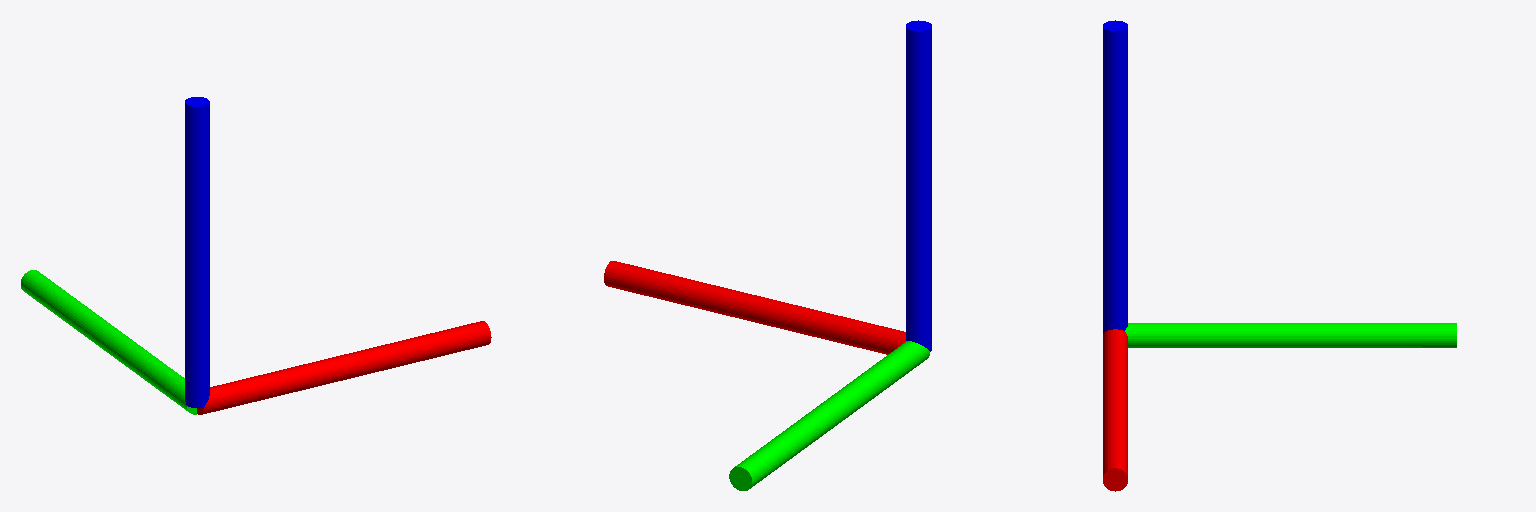
robot.urdf — object:
<?xml version="1.0"?>
<robot name="object">
  <link name="object">
    <visual>
      <origin xyz="0 0 0"/>
      <geometry>
        <mesh filename="meshes/cube_multicolor.obj" scale=".1 .1 .1"/>
      </geometry>
      <material name="multicolor">
        <color rgba="0.7 0.7 1.0 0.3"/>
      </material>
    </visual>
    <collision>
      <origin xyz="0 0 0"/>
      <geometry>
        <box size="0.065 0.065 0.065"/>
      </geometry>
    </collision>
    <inertial>
      <!-- <density value="400.0"/> -->
      <mass value="0.5"/>
      <inertia ixx="1e-4" ixy="0" ixz="0" iyy="1e-4" iyz="0" izz="1e-4"/>
    </inertial>
  </link>
  <link name="x">
    <visual>
      <origin xyz="0.04 0 0" rpy="0 1.5707 0"/>
      <geometry>
        <cylinder radius="0.003" length="0.08"/>
      </geometry>
      <material name="r">
        <color rgba="1 0 0 1"/>
      </material>
    </visual>
    <inertial>
      <mass value="0.05"/>
      <inertia ixx="1e-4" ixy="0" ixz="0" iyy="1e-4" iyz="0" izz="1e-4"/>
    </inertial>
  </link>
  <link name="y">
    <visual>
      <origin xyz="0 0.04 0" rpy="1.5707 0 0"/>
      <geometry>
        <cylinder radius="0.003" length="0.08"/>
      </geometry>
      <material name="g">
        <color rgba="0 1 0 1"/>
      </material>
    </visual>
    <inertial>
      <mass value="0.05"/>
      <inertia ixx="1e-4" ixy="0" ixz="0" iyy="1e-4" iyz="0" izz="1e-4"/>
    </inertial>
  </link>
  <link name="z">
    <visual>
      <origin xyz="0 0 0.04" rpy="0 0 0"/>
      <geometry>
        <cylinder radius="0.003" length="0.08"/>
      </geometry>
      <material name="b">
        <color rgba="0 0 1 1"/>
      </material>
    </visual>
    <inertial>
      <mass value="0.05"/>
      <inertia ixx="1e-4" ixy="0" ixz="0" iyy="1e-4" iyz="0" izz="1e-4"/>
    </inertial>
  </link>
  <joint name="root" type="fixed">
    <origin xyz="0 0 0" rpy="0 0 0"/>
    <parent link="object"/>
    <child link="x"/>
  </joint>
  <joint name="xy" type="fixed">
      <origin xyz="0 0 0" rpy="0 0 0"/>
      <parent link="x"/>
      <child link="y"/>
  </joint>
  <joint name="xz" type="fixed">
      <origin xyz="0 0 0" rpy="0 0 0"/>
      <parent link="x"/>
      <child link="z"/>
  </joint>
</robot>

--- Render facts (derived) ---
The picture shows the robot from 3 angles, left to right: view 1: azimuth 30°, elevation 25°; view 2: azimuth 150°, elevation 25°; view 3: azimuth 270°, elevation 25°; orthographic projection.
Robot: object — 4 links, 3 joints (3 fixed); root link object; default pose: all joints at 0.
Visible links, largest first — view 1: z, x, y; view 2: z, x, y; view 3: y, z, x.
Link boxes in pixels (left/top/right/bottom): z: left=185, top=97, right=209, bottom=407; x: left=197, top=321, right=491, bottom=414; y: left=21, top=270, right=196, bottom=414; z: left=906, top=20, right=931, bottom=351; x: left=604, top=261, right=905, bottom=354; y: left=729, top=341, right=929, bottom=490; y: left=1125, top=323, right=1456, bottom=347; z: left=1103, top=20, right=1127, bottom=333; x: left=1103, top=329, right=1127, bottom=491.
Bounding box of the posed robot: 0.083 × 0.083 × 0.083 m (x, y, z).
0 mesh visuals loaded from 1 distinct referenced files (none loaded); not drawn: 1 (reference not matched to a file when rendering).